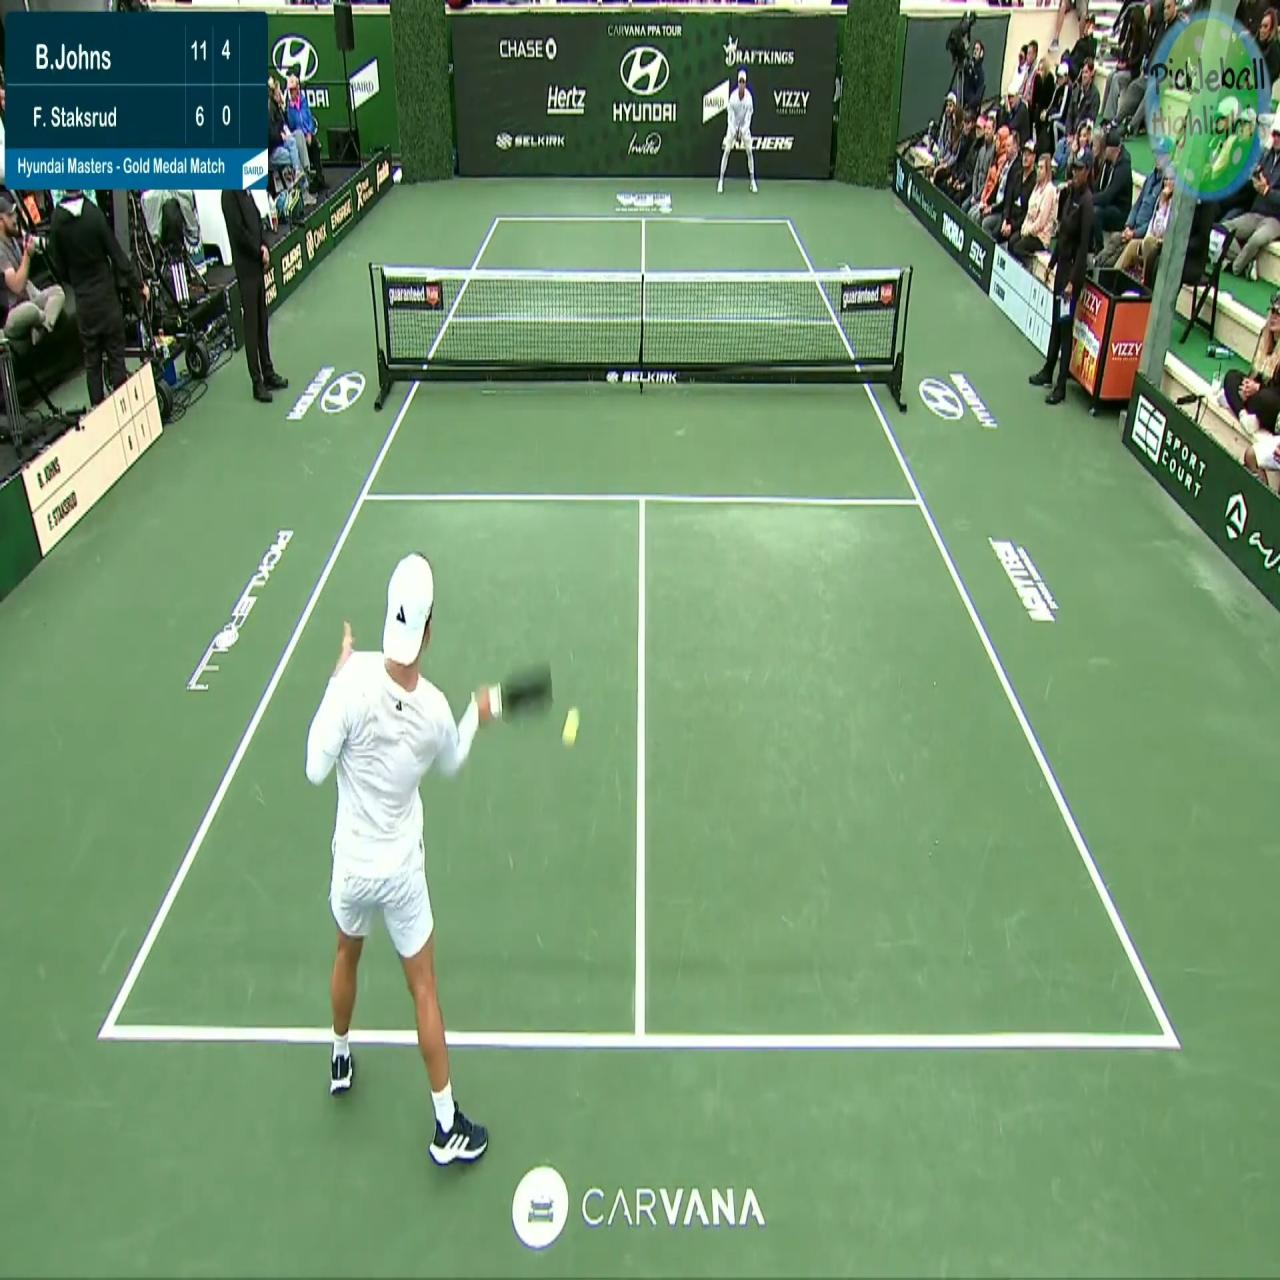pickleball: (560, 706, 581, 747)
